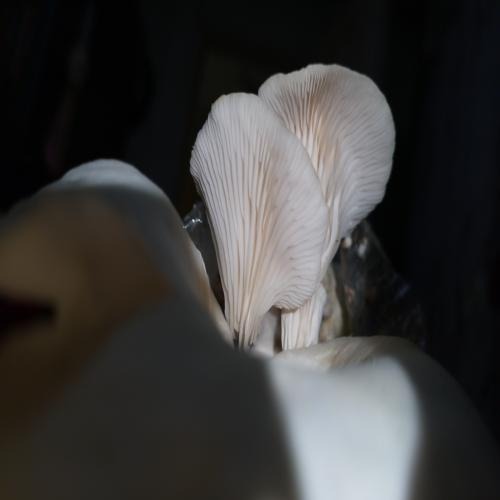Oyster Mushroom: (189, 92, 329, 351), (258, 61, 396, 273)
